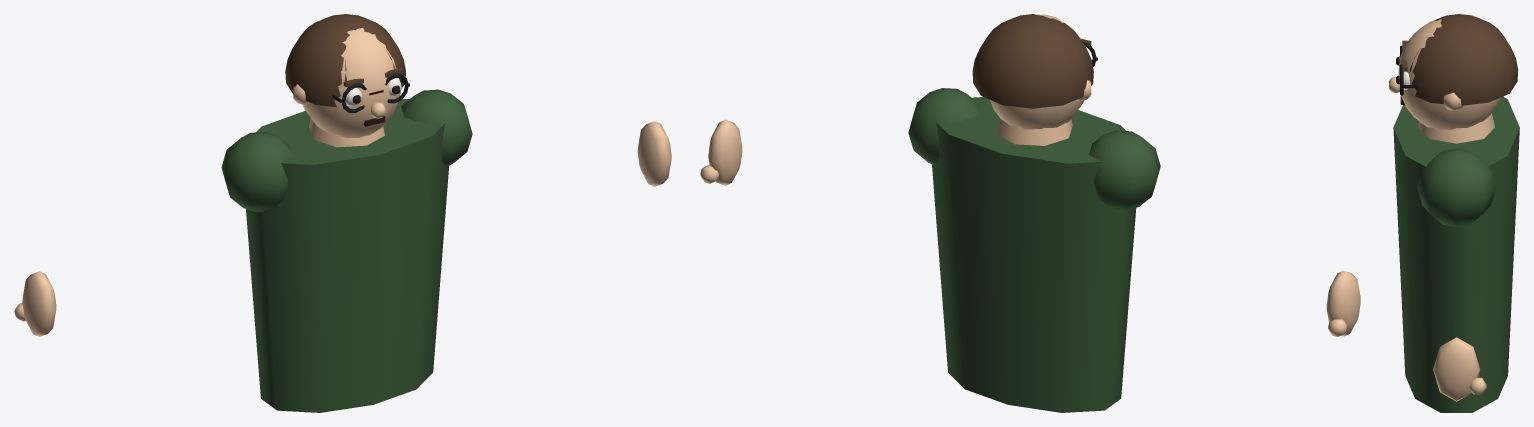
File: avatar-forest.glb
3 views of the same model, side by side, from view 1: azimuth 30°, elevation 25°; view 2: azimuth 150°, elevation 25°; view 3: azimuth 270°, elevation 25° (orthographic). The views are drawn at different scales.
Visible parts, largest first — view 1: Torso, Hair, Skull, ShoulderR, ShoulderL, HandL, HandR, Collar; view 2: Torso, Hair, ShoulderR, ShoulderL, Skull, HandL, HandR, Collar; view 3: Torso, Hair, ShoulderL, Skull, HandL, Collar, EarL, HandL_Thumb, Nose.
Boxes of the visible parts, left/top/right/bottom form: Torso: left=246, top=99, right=449, bottom=412; Hair: left=285, top=14, right=405, bottom=107; Skull: left=303, top=28, right=400, bottom=137; ShoulderR: left=221, top=132, right=292, bottom=211; ShoulderL: left=401, top=89, right=472, bottom=166; HandL: left=637, top=121, right=671, bottom=186; HandR: left=22, top=271, right=56, bottom=336; Collar: left=309, top=118, right=384, bottom=147; Torso: left=932, top=97, right=1136, bottom=412; Hair: left=972, top=14, right=1093, bottom=108; ShoulderR: left=1089, top=130, right=1160, bottom=210; ShoulderL: left=908, top=88, right=980, bottom=164; Skull: left=990, top=14, right=1083, bottom=129; HandL: left=708, top=119, right=742, bottom=185; HandR: left=1326, top=270, right=1360, bottom=336; Collar: left=996, top=118, right=1072, bottom=145; Torso: left=1393, top=96, right=1519, bottom=412; Hair: left=1409, top=14, right=1518, bottom=105; ShoulderL: left=1417, top=148, right=1495, bottom=226; Skull: left=1398, top=19, right=1500, bottom=129; HandL: left=1433, top=337, right=1480, bottom=401; Collar: left=1418, top=113, right=1494, bottom=143; EarL: left=1443, top=92, right=1463, bottom=111; HandL_Thumb: left=1469, top=377, right=1486, bottom=394; Nose: left=1389, top=76, right=1399, bottom=92.
Bounding box in the file's own units: 1.37 × 0.746 × 0.2482.
